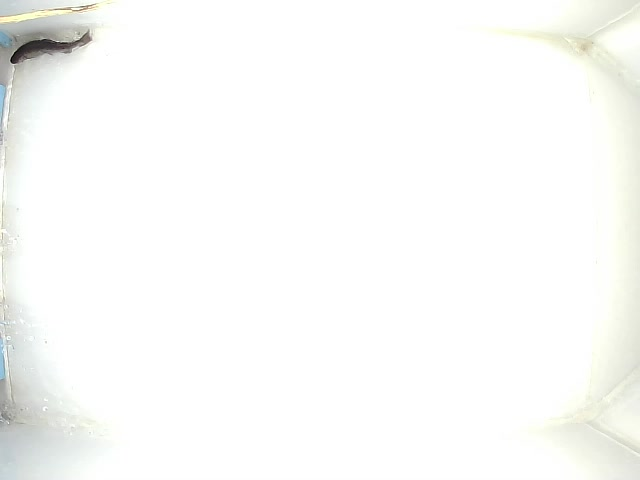fish: (9, 28, 94, 66)
